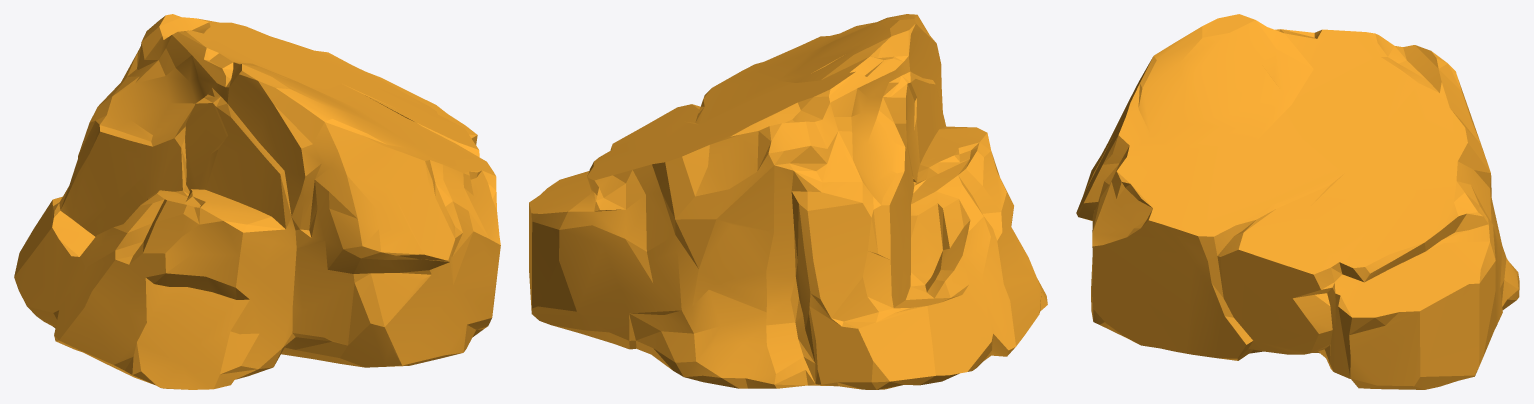
File: SM_Iceberg_Medium_B_Plane.fbx
The picture shows the model from 3 angles, left to right: view 1: azimuth 30°, elevation 25°; view 2: azimuth 150°, elevation 25°; view 3: azimuth 270°, elevation 25°; orthographic projection. The views are drawn at different scales.
Visible parts, largest first — view 1: iceberg-medium-b-plane; view 2: iceberg-medium-b-plane; view 3: iceberg-medium-b-plane.
Part boxes in pixels (<box>): iceberg-medium-b-plane: <box>14,14,500,389</box>; iceberg-medium-b-plane: <box>529,14,1047,389</box>; iceberg-medium-b-plane: <box>1076,14,1519,389</box>.
Bounding box in the file's own units: 12.85 × 7.56 × 11.94.
